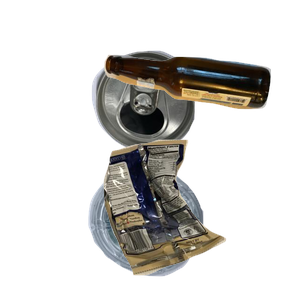glass: (101, 52, 300, 154)
metal: (89, 48, 276, 192)
plastic: (86, 163, 282, 300)
trash: (101, 137, 300, 300)
